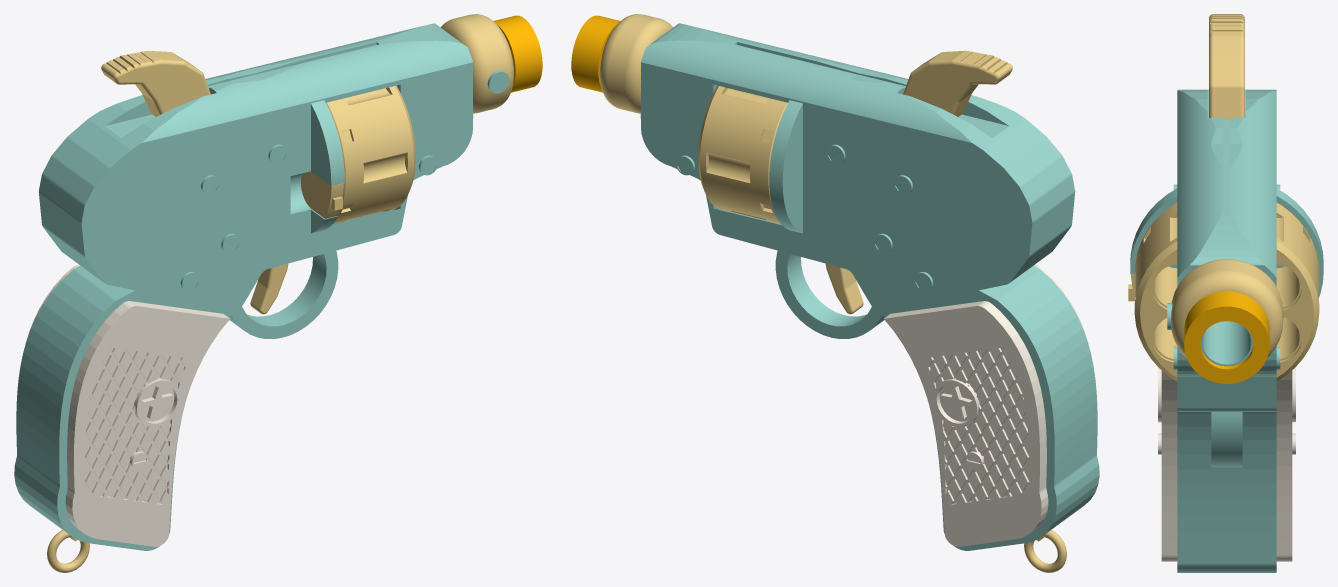
3 views of the same model, side by side, from view 1: azimuth 30°, elevation 25°; view 2: azimuth 150°, elevation 25°; view 3: azimuth 270°, elevation 25° (orthographic). The views are drawn at different scales.
Parts seen in each view (by area): view 1: telaio, =>[0:1:1:18], =>[0:1:1:3], =>[0:1:1:20], =>[0:1:1:12], =>[0:1:1:26], sportello, =>[0:1:1:23], cordino; view 2: telaio, guancia_sx, =>[0:1:1:3], =>[0:1:1:20], =>[0:1:1:12], =>[0:1:1:26], =>[0:1:1:23], cordino; view 3: telaio, =>[0:1:1:3], =>[0:1:1:26], =>[0:1:1:12], =>[0:1:1:20], guancia_sx, =>[0:1:1:18], =>[0:1:1:10].
Boxes of the visible parts, x1,y1,x2,y2 form: telaio: [14, 23, 472, 550]; =>[0:1:1:18]: [65, 301, 229, 546]; =>[0:1:1:3]: [326, 85, 415, 223]; =>[0:1:1:20]: [101, 51, 210, 116]; =>[0:1:1:12]: [441, 14, 513, 113]; =>[0:1:1:26]: [493, 15, 542, 92]; sportello: [301, 171, 343, 218]; =>[0:1:1:23]: [250, 263, 288, 314]; cordino: [47, 530, 89, 572]; telaio: [641, 23, 1099, 550]; guancia_sx: [884, 301, 1048, 546]; =>[0:1:1:3]: [698, 85, 787, 223]; =>[0:1:1:20]: [903, 50, 1012, 116]; =>[0:1:1:12]: [600, 14, 672, 113]; =>[0:1:1:26]: [571, 15, 620, 92]; =>[0:1:1:23]: [825, 263, 863, 314]; cordino: [1024, 530, 1066, 572]; telaio: [1130, 89, 1323, 572]; =>[0:1:1:3]: [1134, 203, 1319, 381]; =>[0:1:1:26]: [1184, 291, 1269, 383]; =>[0:1:1:12]: [1171, 259, 1283, 357]; =>[0:1:1:20]: [1209, 14, 1244, 119]; guancia_sx: [1276, 367, 1295, 561]; =>[0:1:1:18]: [1158, 367, 1177, 561]; =>[0:1:1:10]: [1200, 321, 1253, 366].
Bounding box in the file's own units: 145 × 141 × 43.38.
